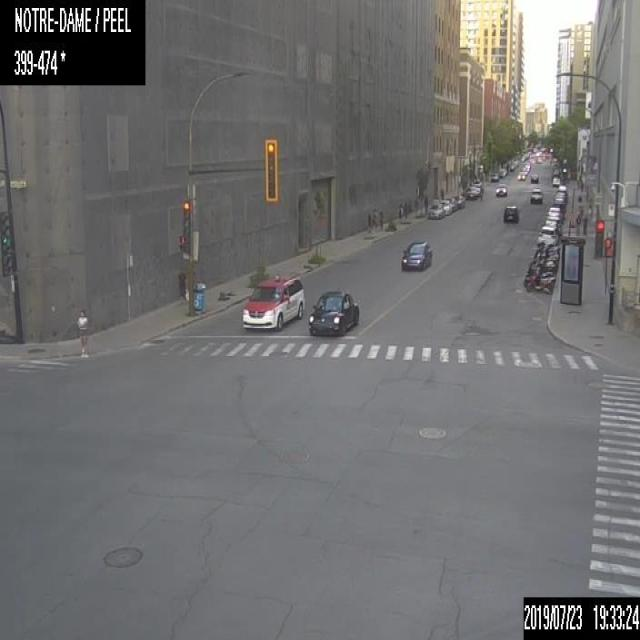pedestrian: (78, 308, 88, 359), (373, 206, 378, 230), (379, 207, 384, 230), (582, 213, 587, 235), (575, 214, 580, 235), (403, 202, 408, 222), (367, 209, 371, 232), (397, 201, 401, 221), (577, 191, 581, 209), (579, 206, 583, 224), (479, 184, 483, 202)
vehicle: (241, 272, 305, 332), (308, 285, 359, 335), (400, 238, 432, 270), (522, 263, 555, 286), (526, 269, 554, 293), (536, 241, 560, 258), (537, 224, 558, 243), (530, 260, 557, 273), (533, 252, 558, 264), (544, 216, 561, 233), (503, 205, 517, 224), (428, 202, 444, 218), (452, 194, 465, 208), (439, 199, 451, 214), (530, 188, 542, 203), (465, 185, 477, 199), (446, 196, 456, 212), (495, 183, 507, 196), (553, 191, 566, 203), (472, 182, 482, 197), (548, 206, 560, 217), (556, 184, 567, 193), (530, 172, 538, 182), (517, 170, 525, 180), (552, 176, 560, 185), (490, 172, 499, 180)
